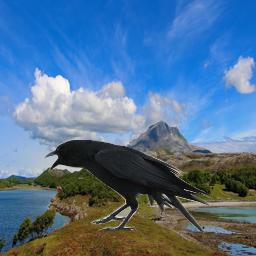Crow: (44, 139, 214, 233)
